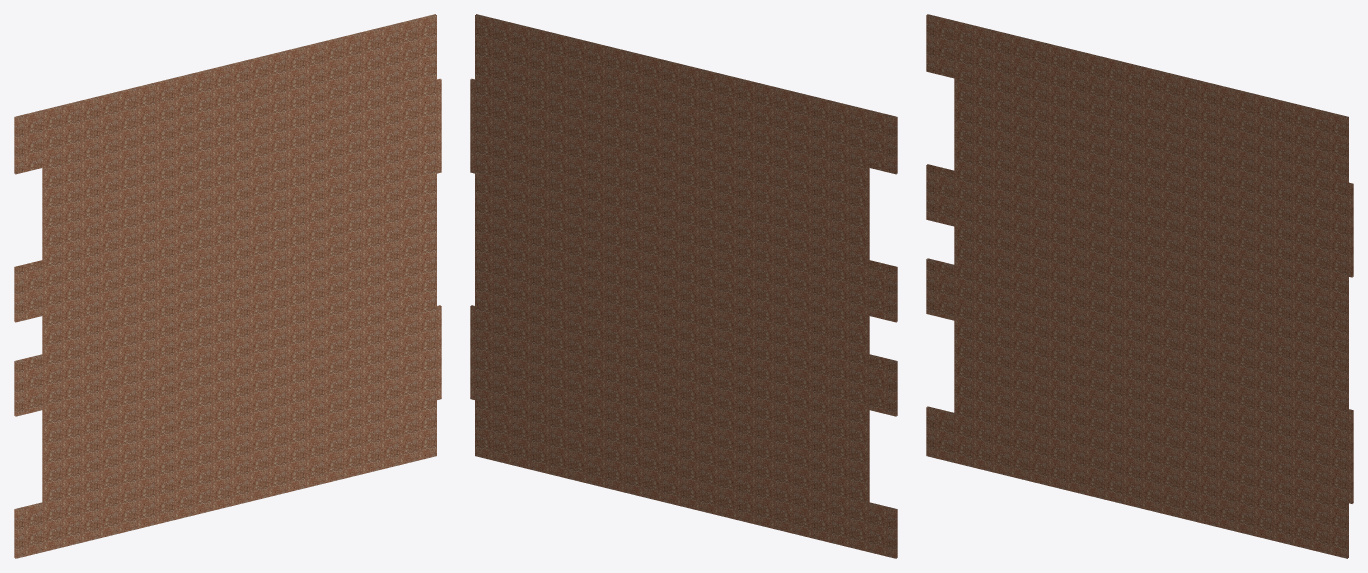
Rendered from floor_1.obj.
3 renders of one model, left to right at view 1: azimuth 30°, elevation 25°; view 2: azimuth 150°, elevation 25°; view 3: azimuth 330°, elevation 25°, orthographic.
Visible parts, largest first — view 1: floor_1; view 2: floor_1; view 3: floor_1.
Boxes of the visible parts, <box> form: floor_1: <box>14,14,441,558</box>; floor_1: <box>470,14,897,558</box>; floor_1: <box>926,14,1353,558</box>.
Bounding box in the file's own units: 22.75 × 22.5 × 0.1.
Materials: 1 (1 with a texture image).
